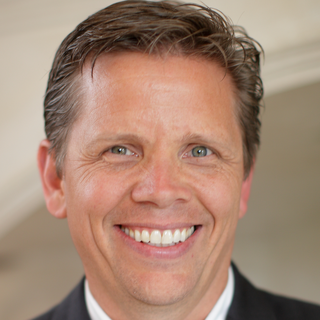eye: (97, 140, 144, 164), (178, 140, 223, 165)
